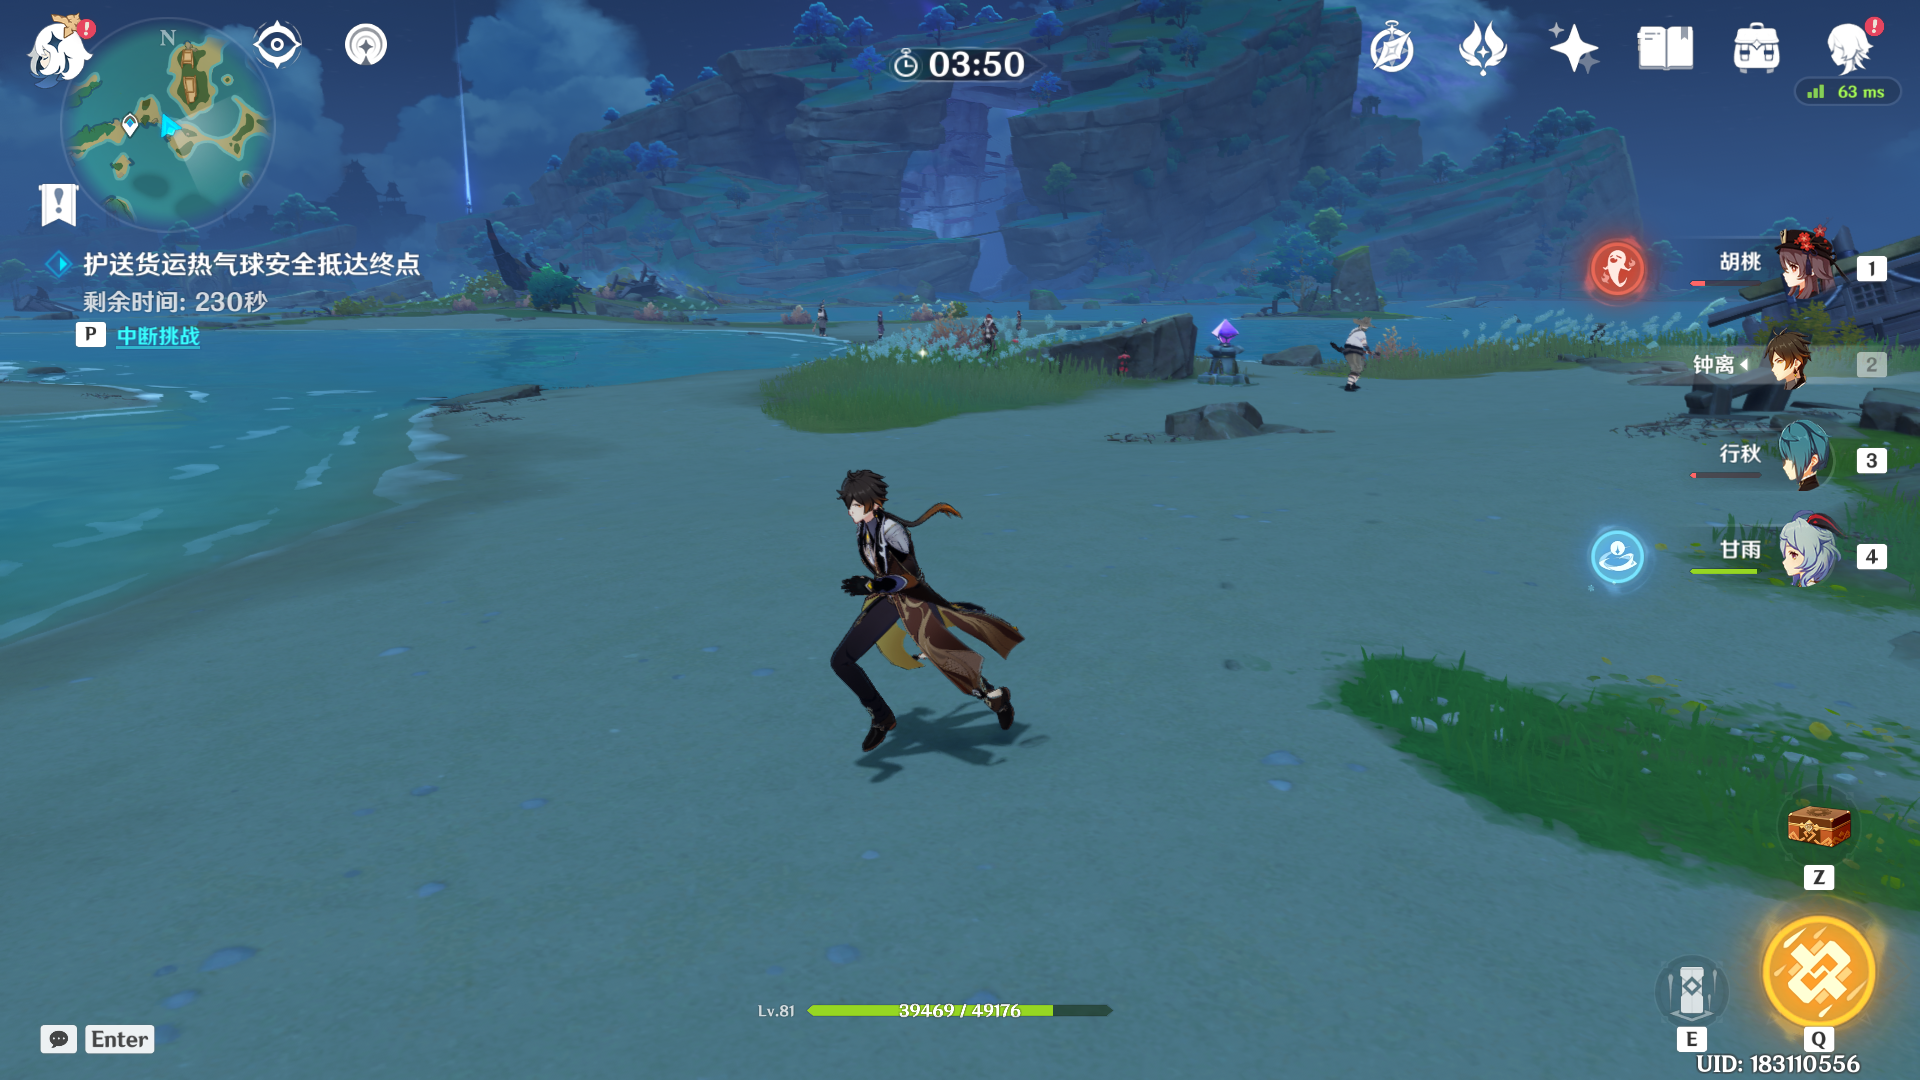character: (762, 454, 1068, 781)
robber: (1325, 281, 1383, 406)
